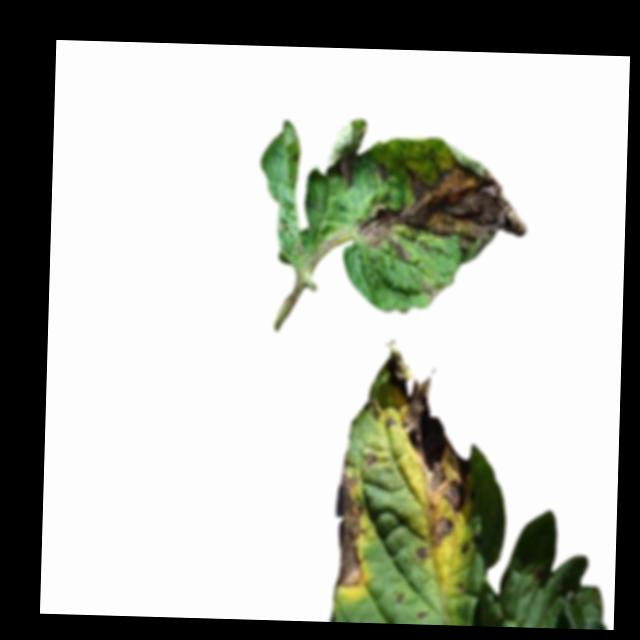Early_blight: (355, 159, 532, 263), (383, 339, 479, 514), (334, 474, 367, 587), (428, 514, 457, 546), (335, 146, 356, 187), (364, 395, 383, 420), (422, 276, 440, 302), (414, 546, 429, 561), (458, 539, 472, 554), (364, 449, 376, 465)
